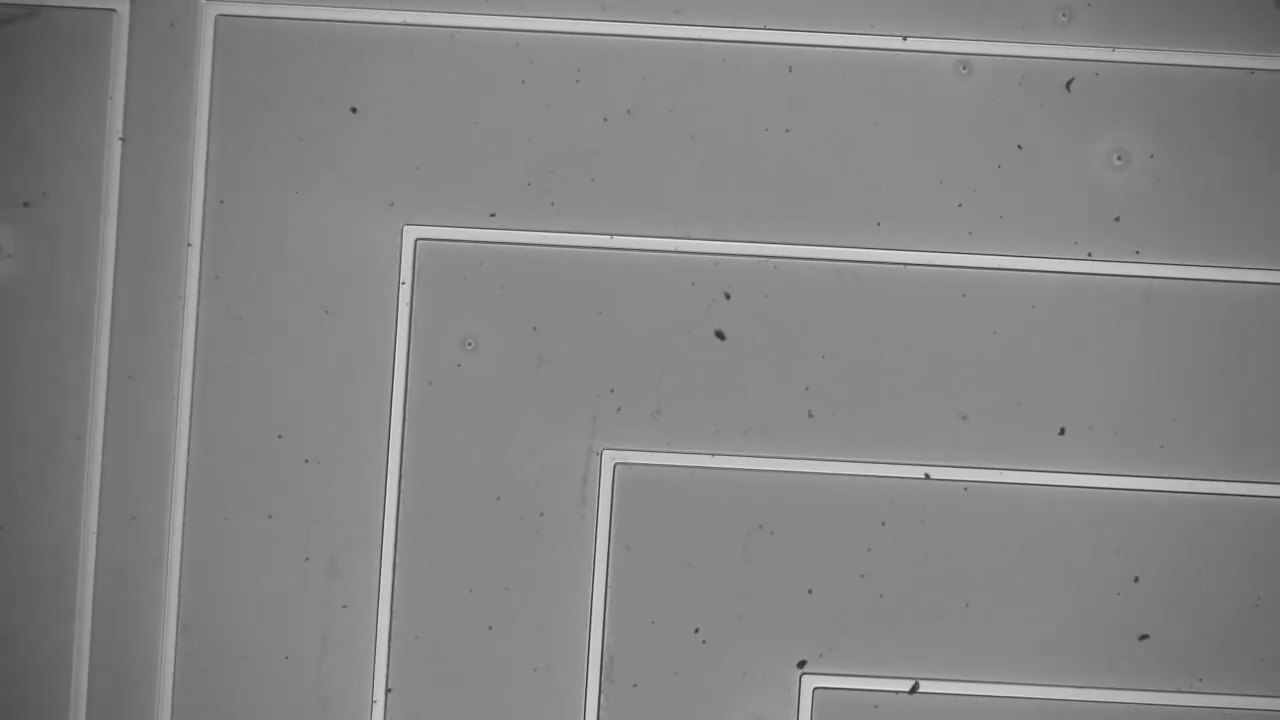stains_enbedded: (902, 673, 930, 703)
